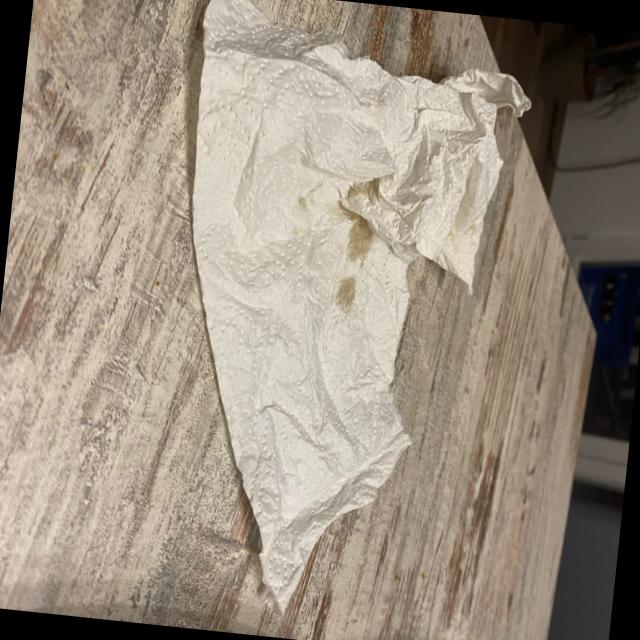organic waste: (137, 0, 540, 628)
